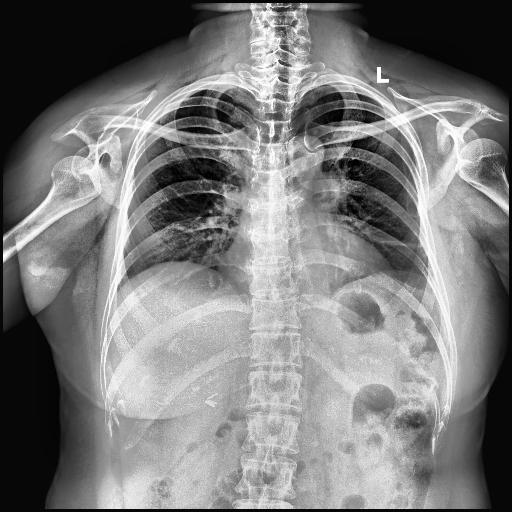0- Aortic enlargement: (280, 136, 326, 170)
13- Pulmonary fibrosis: (381, 232, 423, 252), (378, 236, 426, 252), (380, 236, 422, 250)
3- Cardiomegaly: (214, 235, 388, 298), (217, 246, 397, 290)
